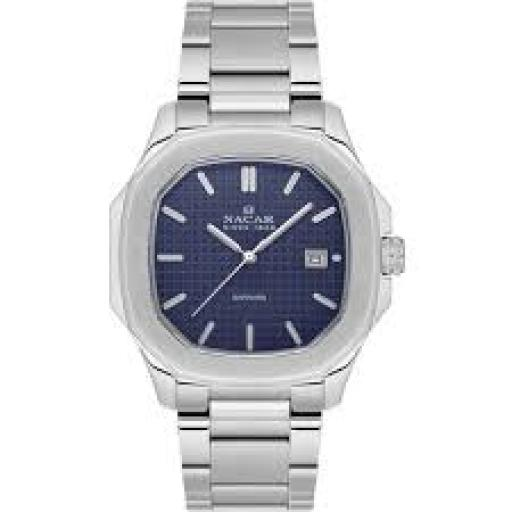KolSaati: (102, 2, 425, 512)
